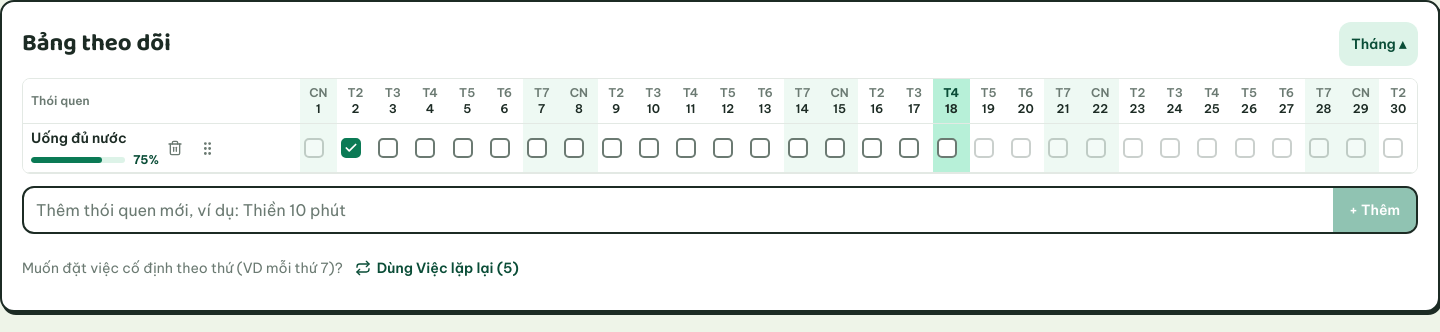
HabitGrid › hiện đúng 7 cột ngày ở chế độ Tuần
Step 1. Click the button with aria-label "bấm để xem tuần" → (1379, 44), box [1339,22,1418,66]
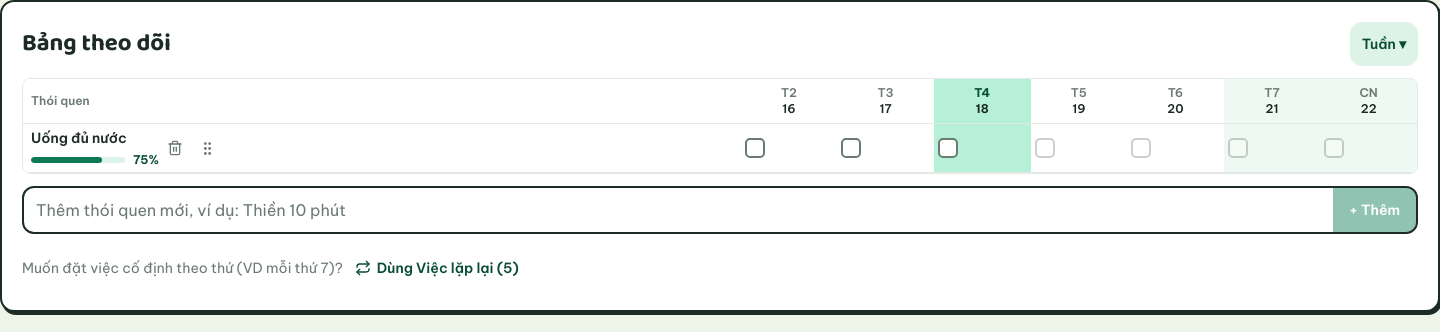
Now the button with aria-label "bấm để xem cả tháng" is shown, box [1350,22,1418,66]
